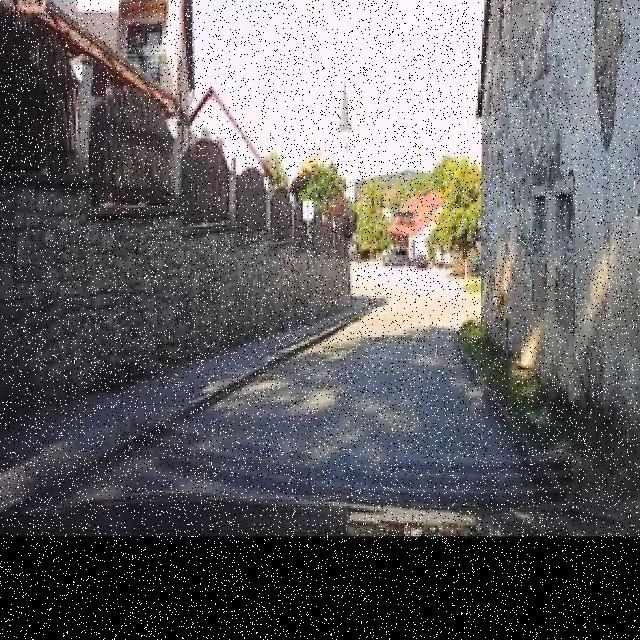clear-road: (182, 262, 516, 460)
